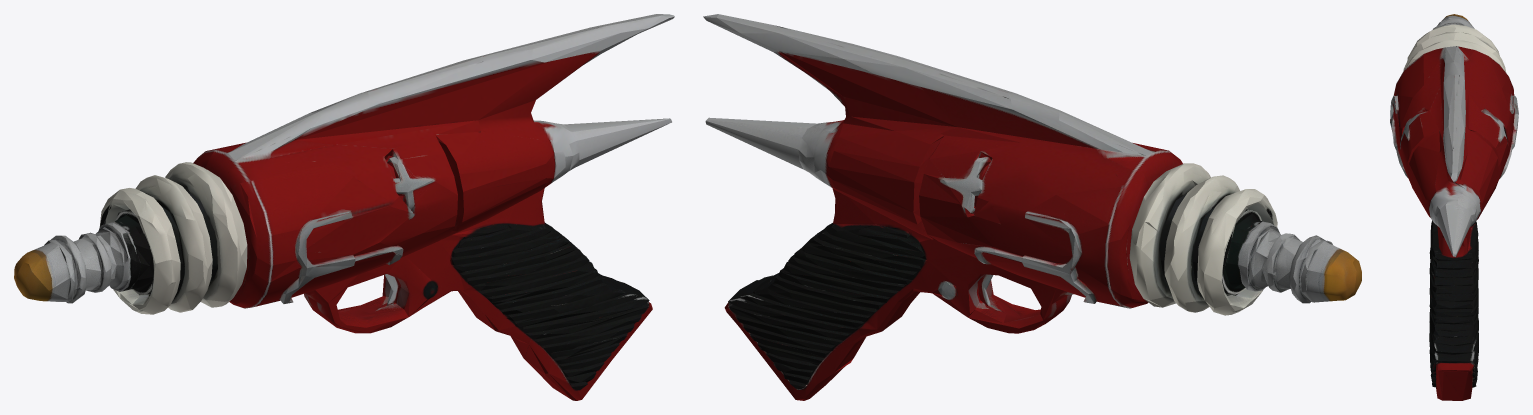
3 renders of one model, left to right at view 1: azimuth 30°, elevation 25°; view 2: azimuth 150°, elevation 25°; view 3: azimuth 270°, elevation 25°, orthographic. The views are drawn at different scales.
Size of the model in its own units: 1.9 by 1 by 0.4469.
1 material, 1 textured.
